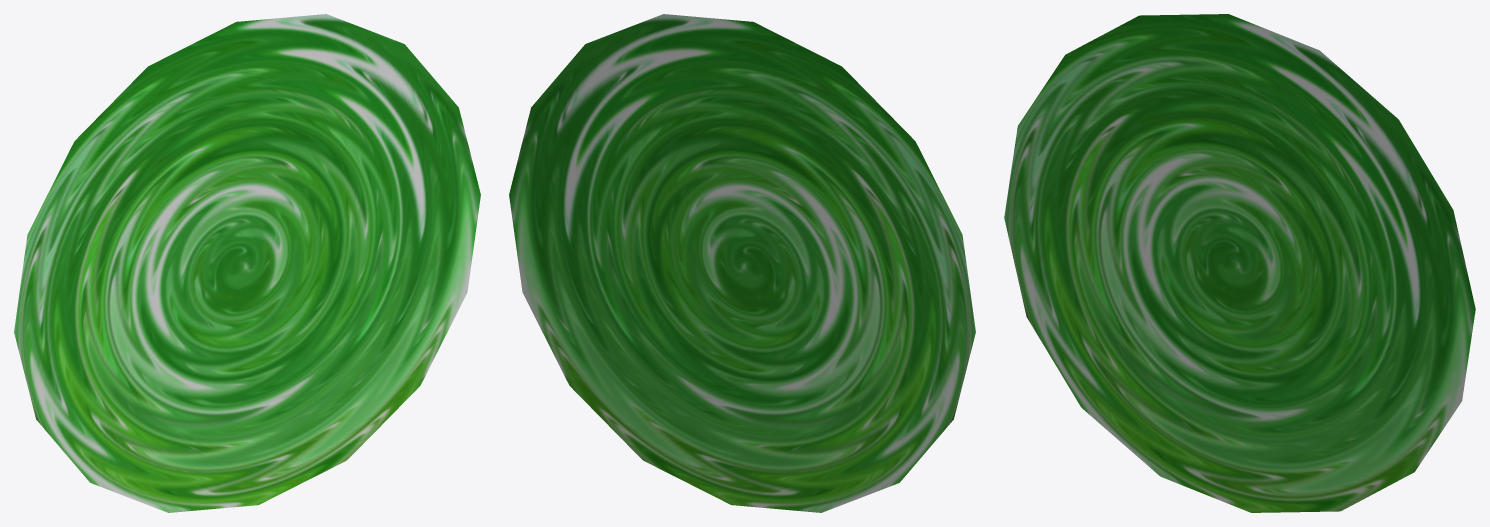
The model's file is Portal.fbx.
3 views of the same model, side by side, from view 1: azimuth 30°, elevation 25°; view 2: azimuth 150°, elevation 25°; view 3: azimuth 330°, elevation 25° (orthographic).
Parts seen in each view (by area): view 1: Cylinder.004; view 2: Cylinder.004; view 3: Cylinder.004.
Part boxes in pixels (left/top/right/bottom): Cylinder.004: left=14, top=14, right=480, bottom=512; Cylinder.004: left=509, top=14, right=975, bottom=512; Cylinder.004: left=1004, top=14, right=1475, bottom=512.
Bounding box in the file's own units: 202 × 202 × 8.86e-06.
